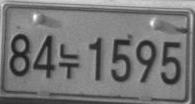1: (85, 36, 108, 81)
4: (32, 34, 56, 79)
5: (159, 41, 181, 85), (110, 38, 131, 82)
8: (8, 32, 30, 76)
9: (134, 38, 157, 83)
누: (58, 43, 79, 79)
